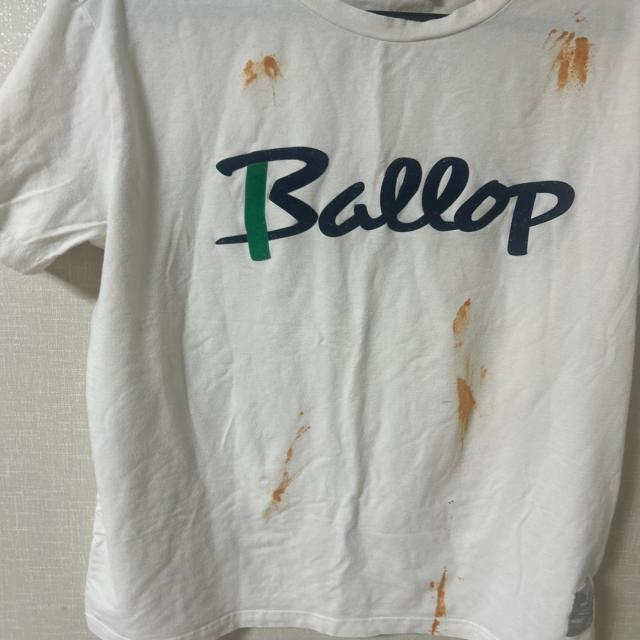stain: (543, 28, 591, 93), (231, 56, 283, 88), (453, 373, 475, 444), (450, 300, 473, 351), (270, 472, 294, 504), (436, 569, 451, 613), (431, 614, 448, 637), (287, 444, 302, 466), (462, 354, 474, 379), (571, 15, 593, 28), (295, 428, 314, 442), (479, 367, 491, 386), (295, 404, 309, 419), (427, 578, 436, 593), (457, 574, 470, 584)
